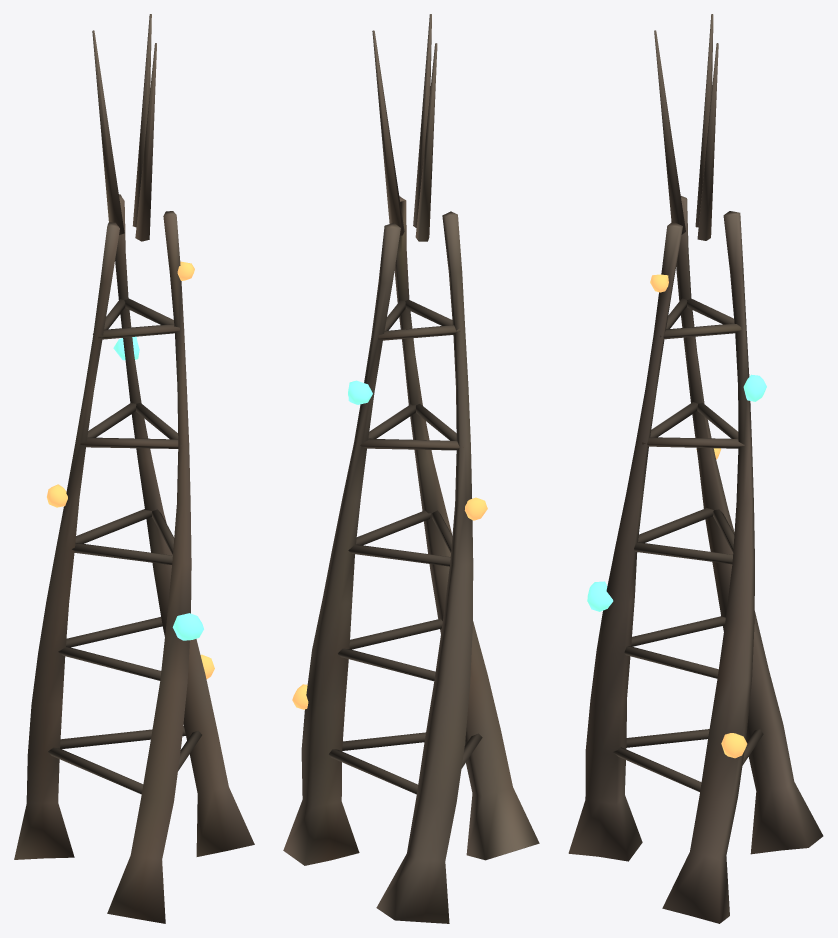
Rendered from flora_arch.glb.
The picture shows the model from 3 angles, left to right: view 1: azimuth 30°, elevation 25°; view 2: azimuth 150°, elevation 25°; view 3: azimuth 270°, elevation 25°; orthographic projection.
Visible parts, largest first — view 1: flora_arch; view 2: flora_arch; view 3: flora_arch.
Boxes of the visible parts, box(x1,y1,x2,y2) form: flora_arch: box(14, 14, 254, 923); flora_arch: box(283, 14, 539, 923); flora_arch: box(568, 14, 823, 923).
Bounding box in the file's own units: 2.26 × 9.29 × 2.55.
